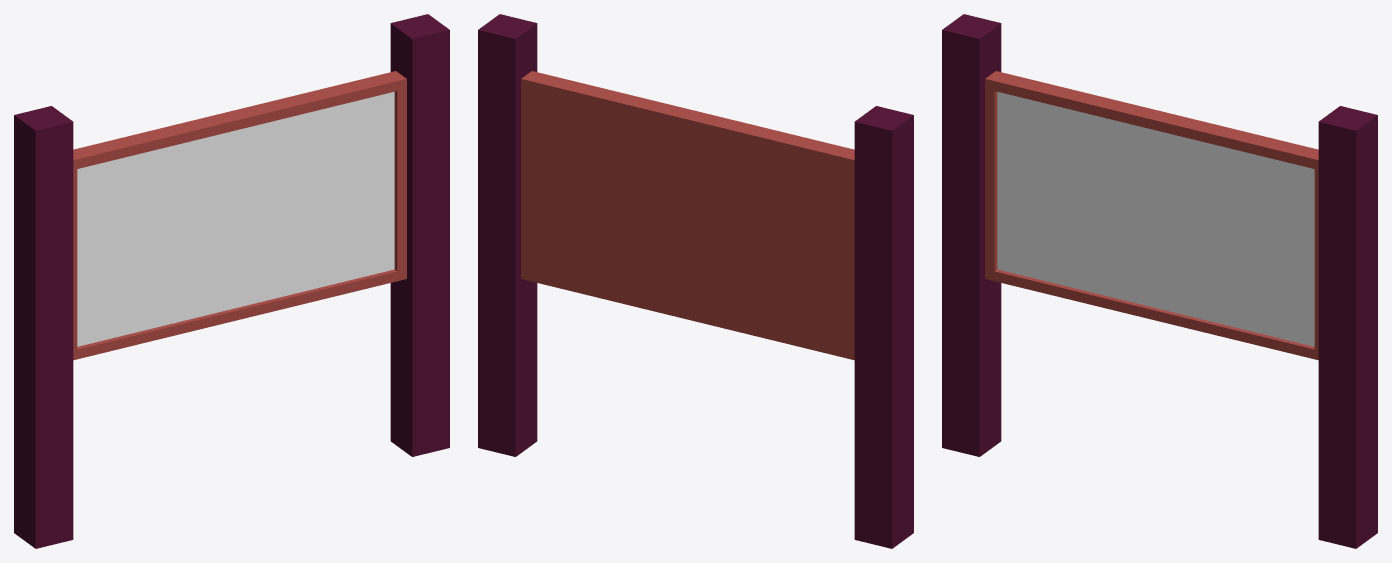
The model's file is whiteboard.glb.
3 renders of one model, left to right at view 1: azimuth 30°, elevation 25°; view 2: azimuth 150°, elevation 25°; view 3: azimuth 330°, elevation 25°, orthographic.
Parts seen in each view (by area): view 1: Whiteboard-col; view 2: Whiteboard-col; view 3: Whiteboard-col.
Part boxes in pixels (x1,y1,x2,y2): Whiteboard-col: (14, 14, 449, 548); Whiteboard-col: (478, 14, 913, 548); Whiteboard-col: (942, 14, 1377, 548).
Bounding box in the file's own units: 3.96 × 3.82 × 0.36.
2 materials, 2 textured.
